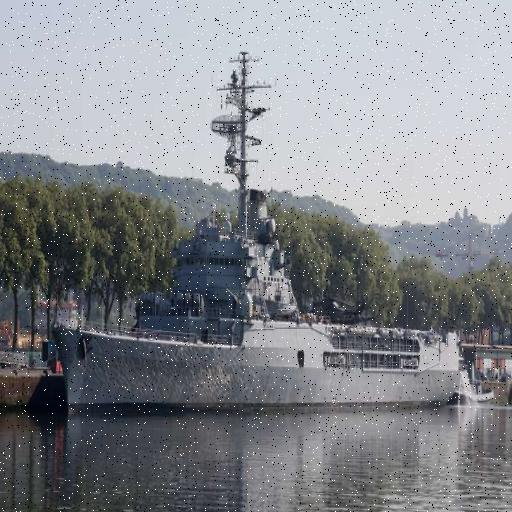Portanaves: (42, 47, 464, 424)
